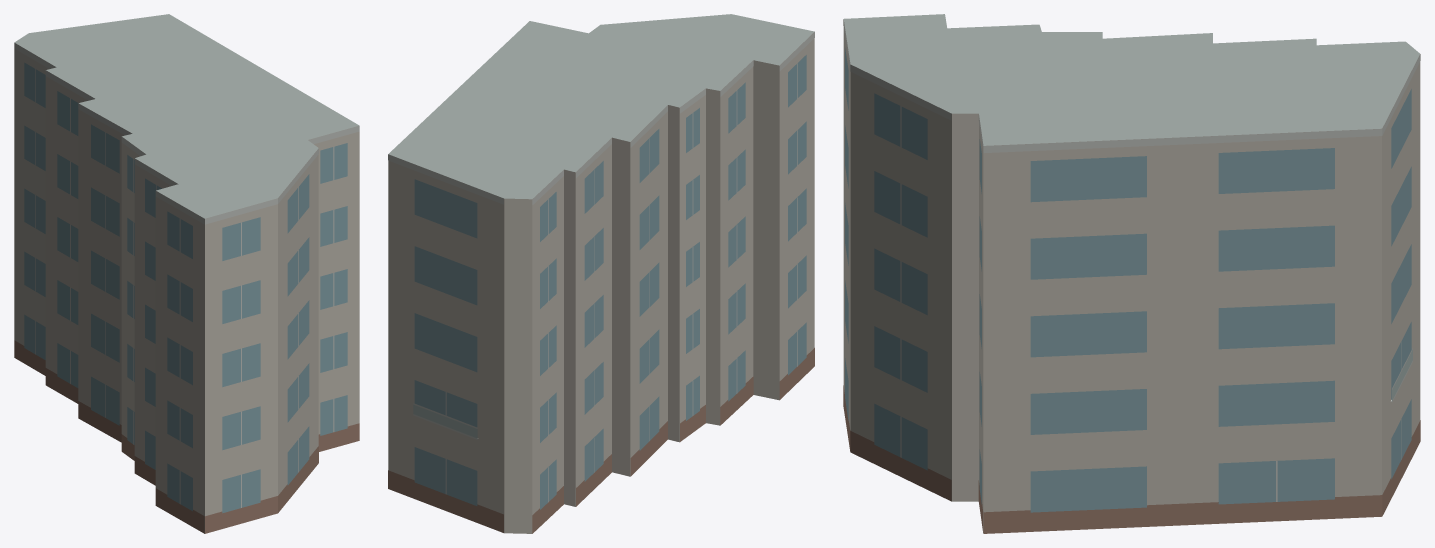
The model's file is survey-upis-32673661.glb.
The picture shows the model from 3 angles, left to right: view 1: azimuth 30°, elevation 25°; view 2: azimuth 150°, elevation 25°; view 3: azimuth 270°, elevation 25°; orthographic projection. The views are drawn at different scales.
Visible parts, largest first — view 1: survey-upis-32673661.tmp; view 2: survey-upis-32673661.tmp; view 3: survey-upis-32673661.tmp.
Boxes of the visible parts, bbox=[...] form: survey-upis-32673661.tmp: bbox=[14, 14, 359, 533]; survey-upis-32673661.tmp: bbox=[388, 14, 814, 533]; survey-upis-32673661.tmp: bbox=[843, 14, 1420, 533].
Bounding box in the file's own units: 9.49 × 13 × 17.52.
